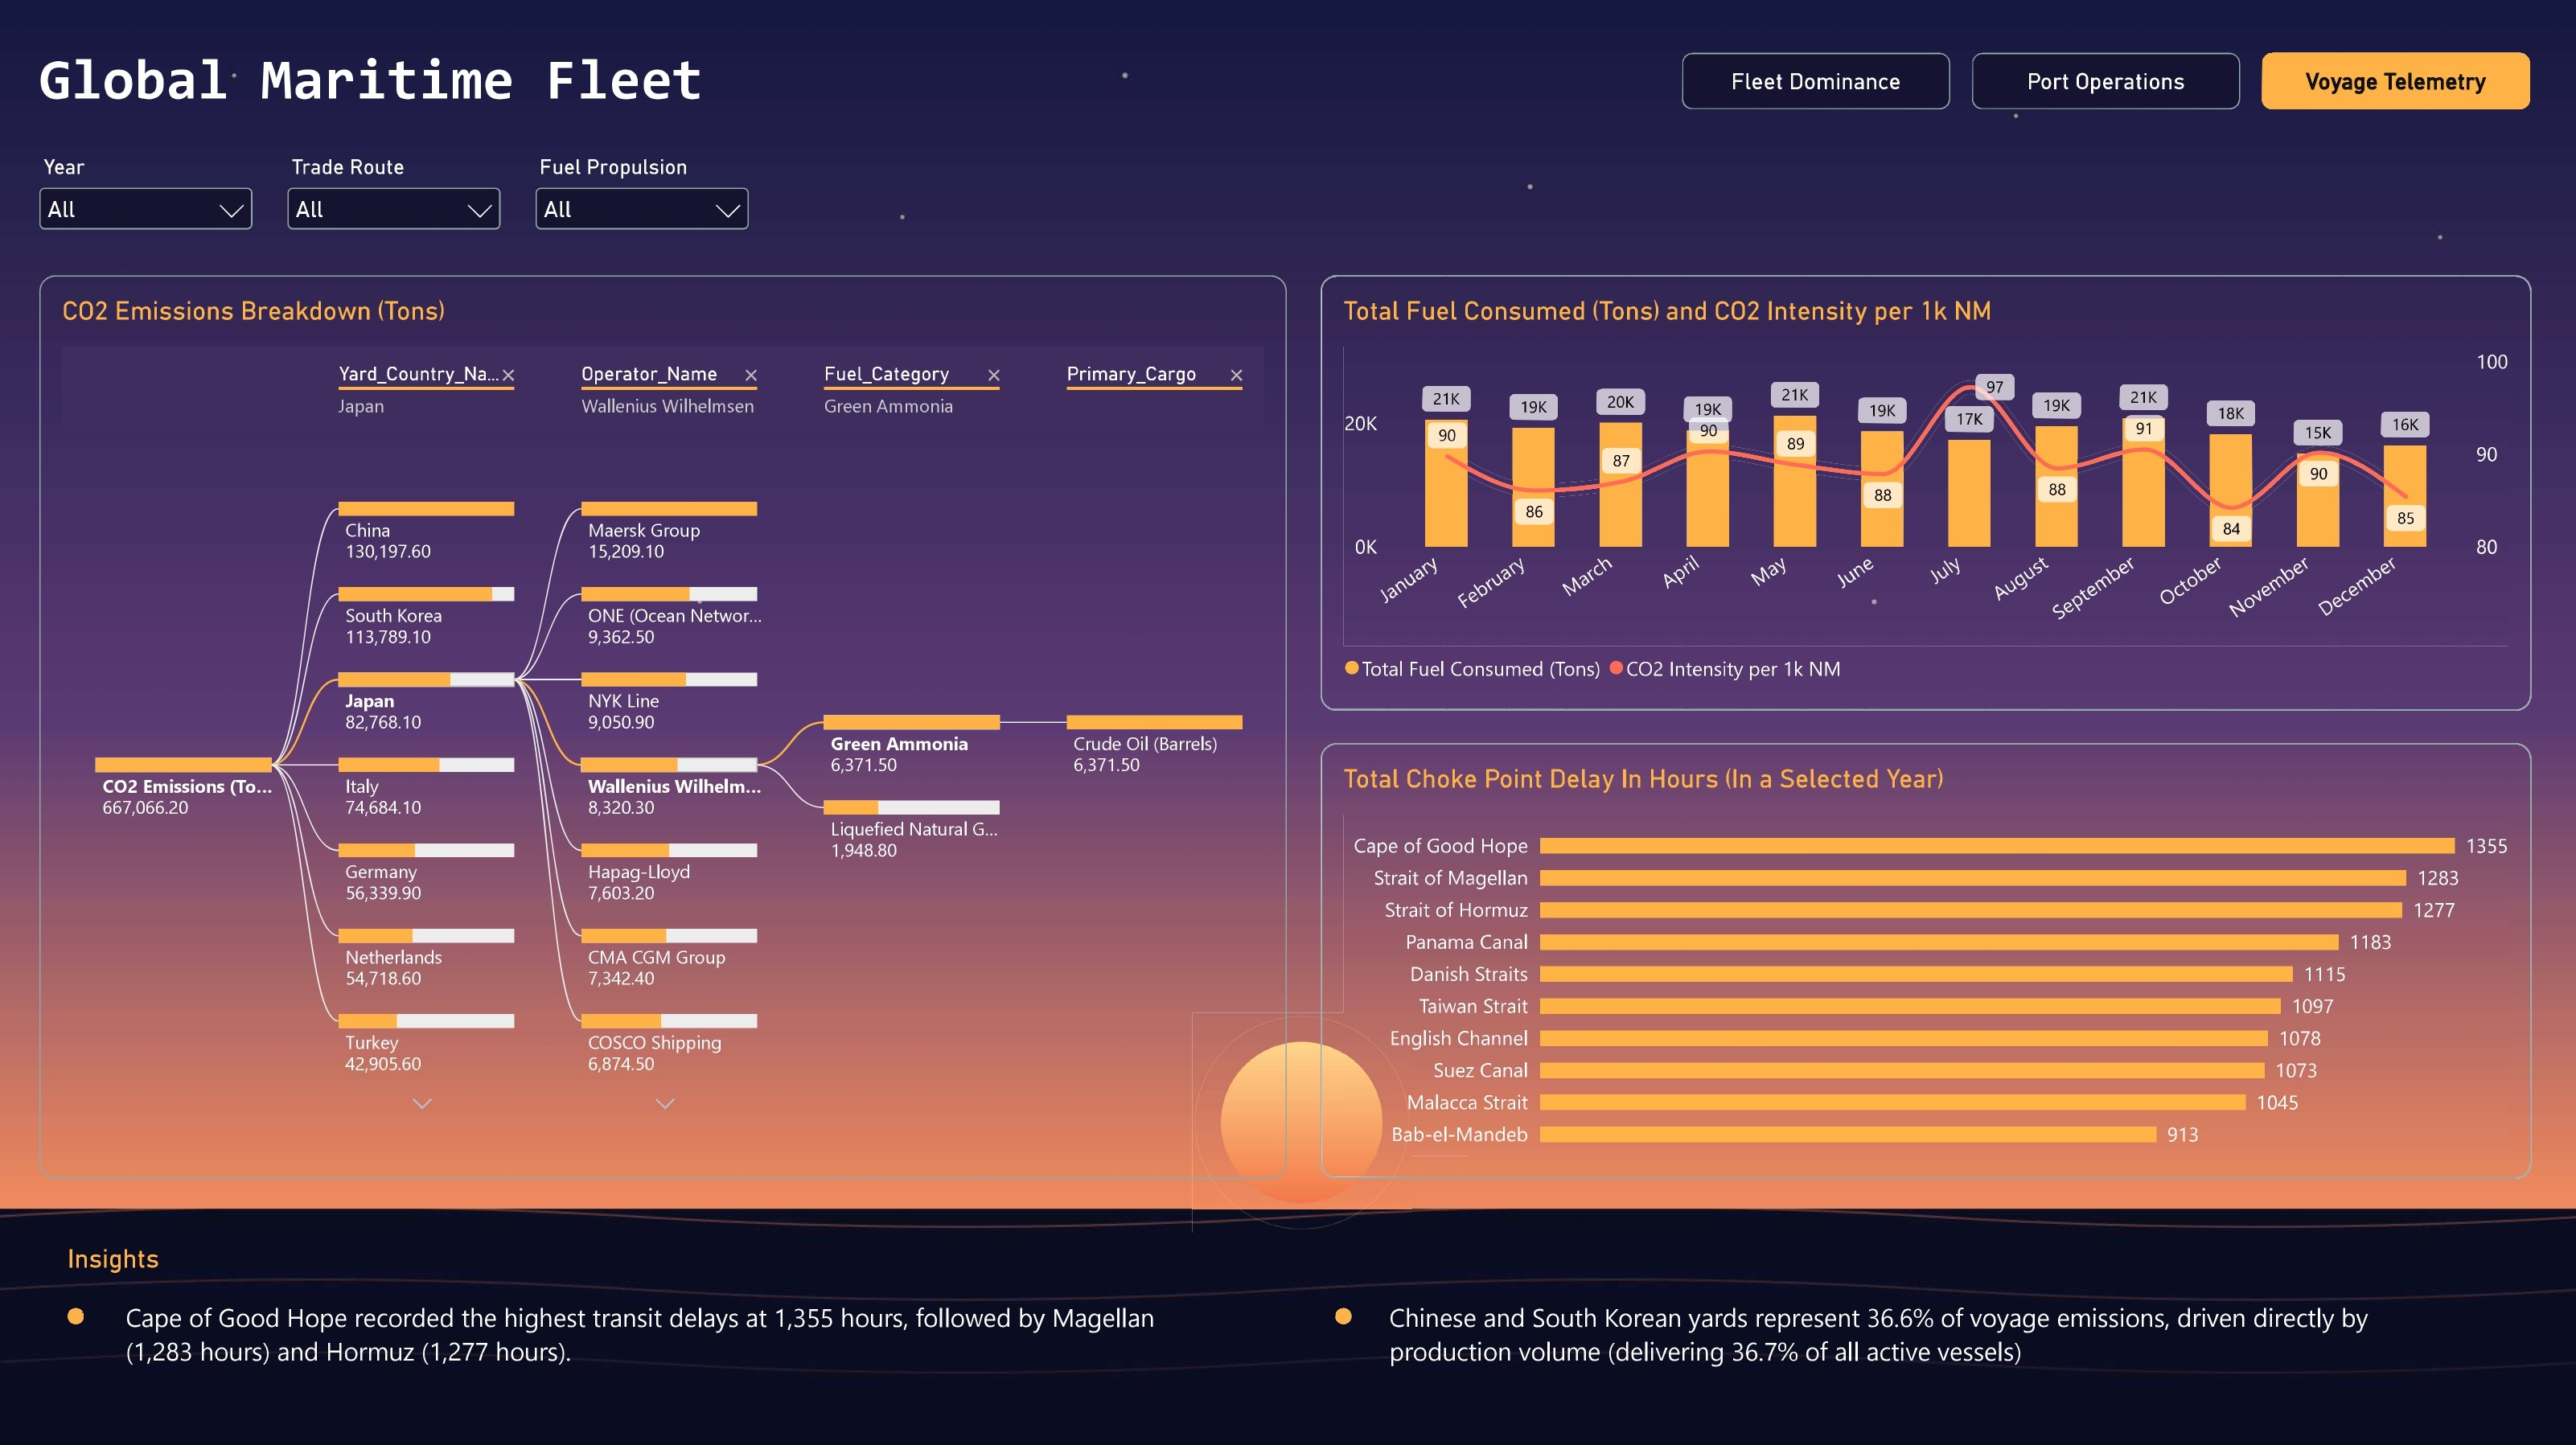

The dashboard page shown, as its layout file describes it:
{"tool":"powerbi","page":{"name":"Voyage Telemetry","canvas":[1920,1080],"ordinal":2},"visuals":[{"type":"image","box":[0,0,1920.7,1080.8],"z":0},{"type":"textbox","box":[98.5,968,783.5,88],"z":0,"group":"g2"},{"type":"image","box":[840,755,262.5,162.5],"z":1000},{"type":"shape","box":[56,974,12,12],"z":1000,"group":"g2"},{"type":"textbox","box":[35,37.5,670,70],"z":2000},{"type":"pageNavigator","box":[1252.5,42.5,630,42.5],"z":3000},{"type":"group","id":"g1","title":"Group 1","box":[24.3,112.3,550,77.5],"z":4000},{"type":"slicer","title":"Year","fields":{"Values":["Dim_Date.Year"]},"box":[24.3,112.4,180,76],"z":5000,"group":"g1"},{"type":"lineClusteredColumnComboChart","title":"Total Fuel Consumed (Tons) and CO2 Intensity per 1k NM","fields":{"Category":["Dim_Date.Date.Variation.Date Hierarchy.Month"],"Y":["_Measures.Total Fuel Consumed (Tons)"],"Y2":["_Measures.CO2 Intensity per 1k NM"]},"box":[985,207.5,898,323],"z":5000},{"type":"slicer","title":"Shipyard Country","fields":{"Values":["Dim_MaritimeRoutes.Route_Name"]},"box":[208.5,112.3,180,76.2],"z":6000,"group":"g1"},{"type":"clusteredBarChart","title":"Total Choke Point Delay In Hours (In a Selected Year)","fields":{"Category":["Dim_MaritimeRoutes.Major_Choke_Point"],"Y":["_Measures.Total Choke Point Delay (Hours)"]},"box":[985,555,897.5,323],"z":6000},{"type":"slicer","fields":{"Values":["Dim_Vessels.Fuel_Category"]},"box":[392.7,112.3,180,76.2],"z":7000,"group":"g1"},{"type":"decompositionTreeVisual","title":"CO2 Emissions Breakdown (Tons)","fields":{"Analyze":["_Measures.Total CO2 Emissions (Tons)"],"ExplainBy":["Dim_Vessels.Yard_Country_Name","Dim_Vessels.Operator_Name","Dim_Vessels.Fuel_Category","Dim_Vessels.Primary_Cargo"]},"box":[35,207.5,925,670],"z":7000},{"type":"textbox","box":[56,926,162,44],"z":8000},{"type":"group","id":"g2","title":"Group 2","box":[56,968,826,88],"z":9000},{"type":"textbox","box":[1035.6,968,730.3,88],"z":10000,"group":"g3"},{"type":"shape","box":[996,974,12,12],"z":11000,"group":"g3"},{"type":"group","id":"g3","title":"Group 4","box":[996,968,770,88],"z":12001}]}

Visuals, with their boxes in screenshot pixels (x1, y1, x2, y2), scaled from the page's 1920x1080 canvas onto the 2576x1445 screenshot:
image: l=0, t=0, r=2575, b=1444
textbox: l=132, t=1295, r=1183, b=1413
image: l=1127, t=1010, r=1479, b=1228
shape: l=75, t=1303, r=91, b=1320
textbox: l=47, t=50, r=946, b=144
pageNavigator: l=1680, t=57, r=2525, b=113
"Group 1" group: l=33, t=150, r=770, b=254
"Year" slicer: l=33, t=150, r=274, b=252
"Total Fuel Consumed (Tons) and CO2 Intensity per 1k NM" lineClusteredColumnComboChart: l=1321, t=277, r=2526, b=710
"Shipyard Country" slicer: l=280, t=150, r=521, b=252
"Total Choke Point Delay In Hours (In a Selected Year)" clusteredBarChart: l=1321, t=742, r=2525, b=1175
slicer - Dim_Vessels.Fuel_Category: l=527, t=150, r=768, b=252
"CO2 Emissions Breakdown (Tons)" decompositionTreeVisual: l=47, t=277, r=1288, b=1174
textbox: l=75, t=1239, r=293, b=1298
"Group 2" group: l=75, t=1295, r=1183, b=1413
textbox: l=1390, t=1295, r=2369, b=1413
shape: l=1337, t=1303, r=1353, b=1320
"Group 4" group: l=1337, t=1295, r=2369, b=1413
